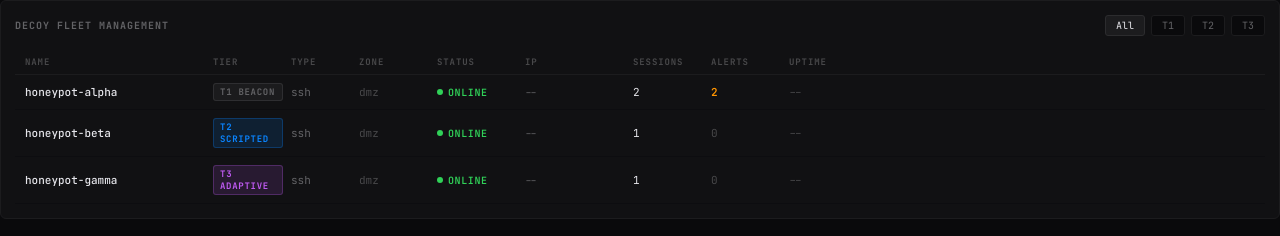
Scenario: DecoyFleet › shows all decoys when All filter is clicked after filtering
Click the button "T1" at (1168, 26), box [1151,15,1185,36]
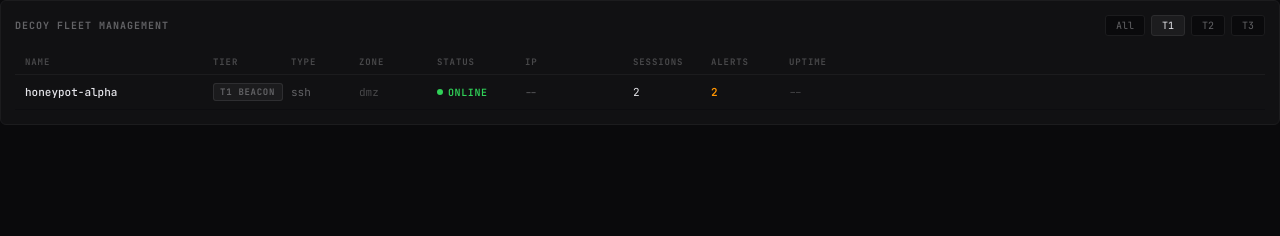
Result: the text "honeypot-beta" is gone
Click the button "All" at (1125, 26), box [1105,15,1145,36]
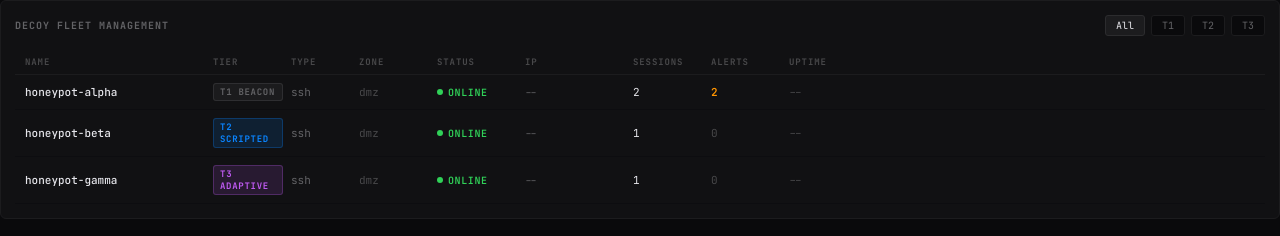
Expected: the text "honeypot-alpha" is shown, [25,85,117,99]
Result: the text "honeypot-beta" is shown at [25,126,111,140]
Result: the text "honeypot-gamma" is shown at [25,173,117,187]
